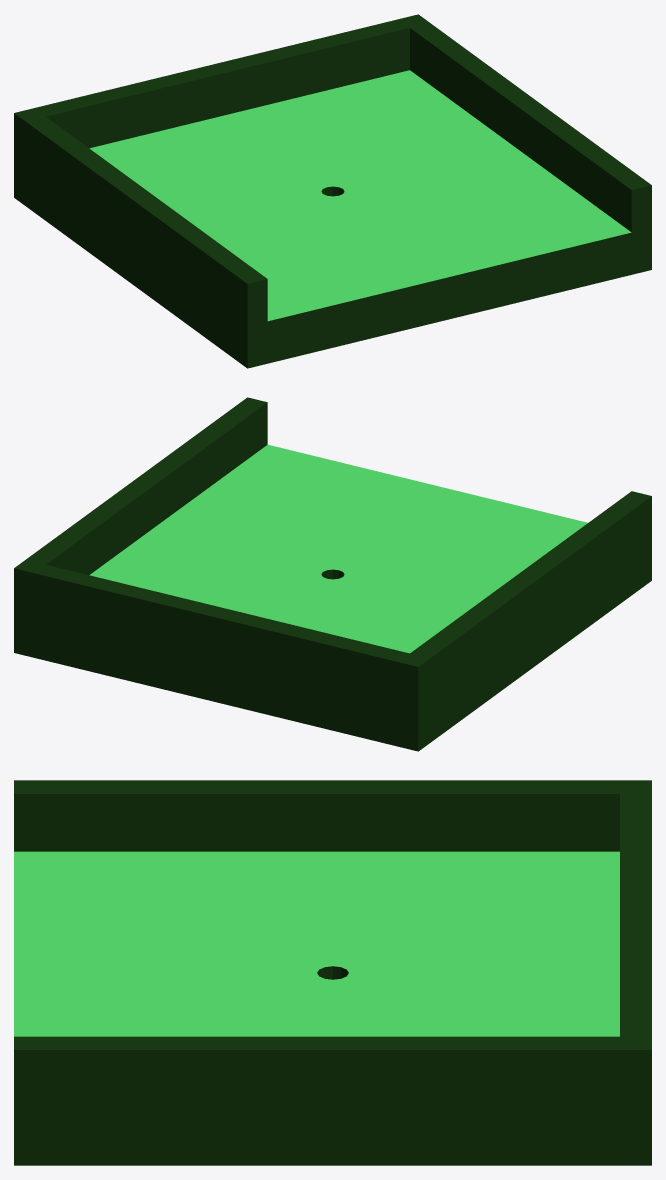
The model's file is MG End Hole.fbx.
The picture shows the model from 3 angles, top to bottom: view 1: azimuth 30°, elevation 25°; view 2: azimuth 150°, elevation 25°; view 3: azimuth 270°, elevation 25°; orthographic projection. The views are drawn at different scales.
Visible parts, largest first — view 1: MG End Hole; view 2: MG End Hole; view 3: MG End Hole.
Boxes of the visible parts, <box> form: MG End Hole: <box>14,14,651,368</box>; MG End Hole: <box>14,397,651,751</box>; MG End Hole: <box>14,780,651,1165</box>.
Size of the model in its own units: 200 by 40 by 200.
